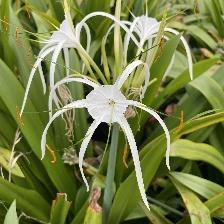spider lily: (41, 61, 174, 216), (24, 14, 98, 104)
